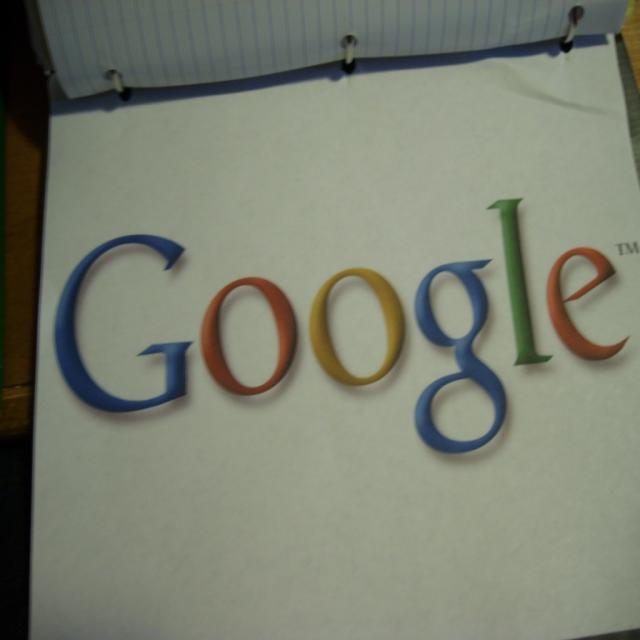google: (47, 191, 639, 463)
